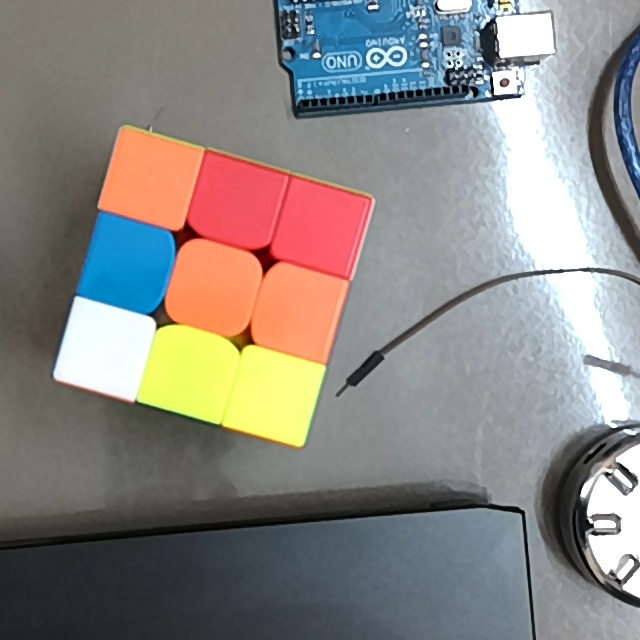tile: (181, 257, 246, 323), (203, 170, 267, 236), (117, 150, 184, 212), (158, 339, 222, 401), (97, 232, 160, 294), (267, 280, 330, 341), (75, 317, 135, 381), (245, 364, 306, 426), (291, 198, 349, 258)
